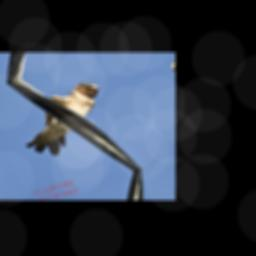Swallow: (3, 78, 125, 162)
